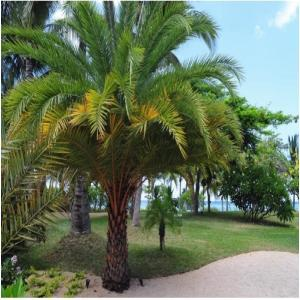palm tree: (1, 0, 247, 292)
